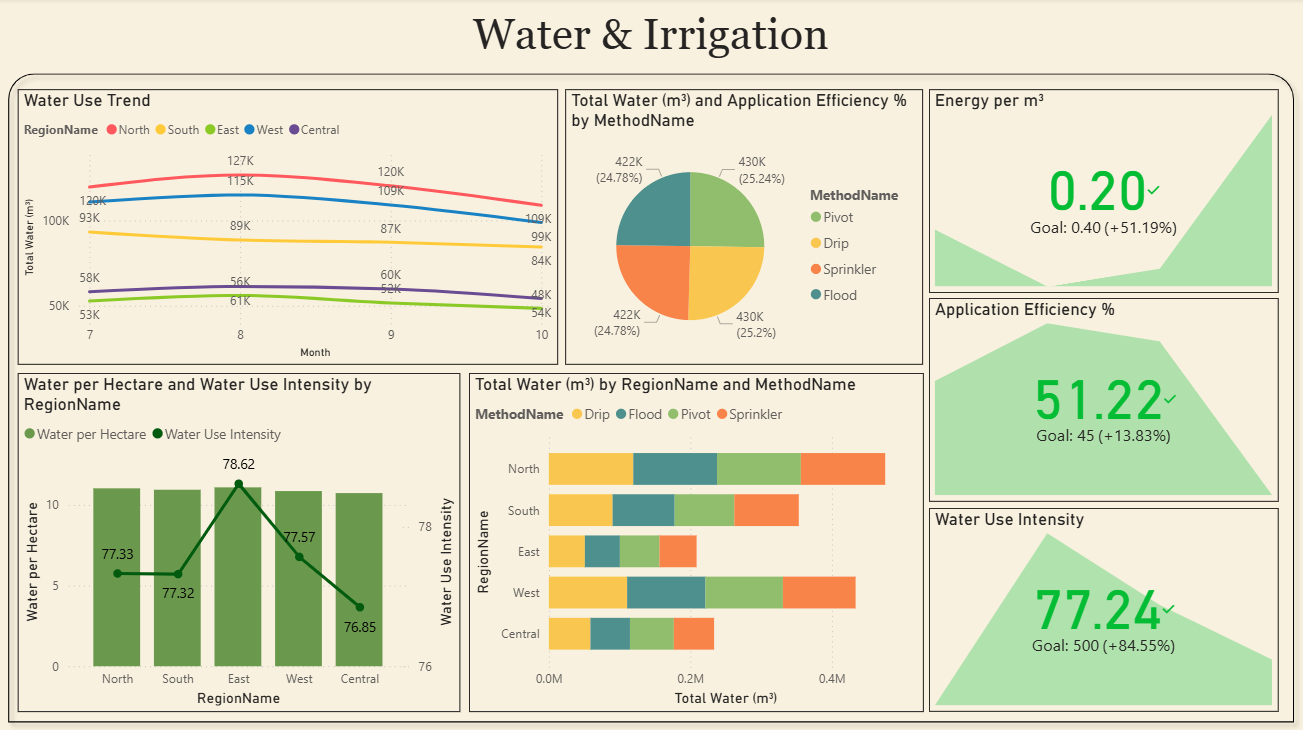

This screenshot's page, from the dashboard's own definition file:
{"tool":"powerbi","page":{"name":"Water & Irrigation","canvas":[1280,720],"ordinal":2},"visuals":[{"type":"shape","box":[0,65,1280.2,655],"z":0},{"type":"textbox","box":[453.1,6.1,374,58.8],"z":1000},{"type":"lineChart","title":"Water Use Trend","fields":{"Category":["DimDateTime.Month"],"Y":["FactIrrigation.Total Water (m³)"],"Series":["DimRegion.RegionName"]},"box":[18.4,89.6,530.3,270.4],"z":2000},{"type":"lineClusteredColumnComboChart","fields":{"Category":["DimRegion.RegionName"],"Y":["FactIrrigation.Water per Hectare"],"Y2":["FactIrrigation.Water Use Intensity"]},"box":[18.4,367.9,434.6,332.8],"z":3000},{"type":"pieChart","fields":{"Category":["DimIrrigationMethod.MethodName"],"Y":["FactIrrigation.Total Water (m³)"]},"box":[555.8,89.6,351.2,270.4],"z":4000},{"type":"barChart","fields":{"Y":["FactIrrigation.Total Water (m³)"],"Category":["DimRegion.RegionName"],"Series":["DimIrrigationMethod.MethodName"]},"box":[461,367.9,446,332.8],"z":5000},{"type":"kpi","title":"Energy per m³","fields":{"TrendLine":["DimDateTime.Month"],"Indicator":["FactIrrigation.Energy per m³"],"Goal":["FactIrrigation.Energy per m³ Goal"]},"box":[913.2,89.6,343.3,200],"z":6000},{"type":"kpi","title":"Application Efficiency %","fields":{"TrendLine":["DimDateTime.Month"],"Indicator":["FactIrrigation.Application Efficiency %"],"Goal":["FactIrrigation.Target Application Efficiency %"]},"box":[913.2,294.1,343.3,200],"z":7000},{"type":"kpi","title":"Water Use Intensity ","fields":{"TrendLine":["DimDateTime.Month"],"Indicator":["FactIrrigation.Water Use Intensity"],"Goal":["FactIrrigation.Target Water Use Intensity"]},"box":[913.2,500.5,343.3,200.2],"z":8000}]}

Visuals, with their boxes in screenshot pixels (x1, y1, x2, y2), scaled from the page's 1280x720 canvas onto the 1303x730 screenshot:
shape: (0,66,1302,729)
textbox: (461,6,842,66)
"Water Use Trend" lineChart: (19,91,559,365)
lineClusteredColumnComboChart - DimRegion.RegionName x FactIrrigation.Water per Hectare: (19,373,461,710)
pieChart - DimIrrigationMethod.MethodName x FactIrrigation.Total Water (m³): (566,91,923,365)
barChart - FactIrrigation.Total Water (m³) x DimRegion.RegionName: (469,373,923,710)
"Energy per m³" kpi: (930,91,1279,294)
"Application Efficiency %" kpi: (930,298,1279,501)
"Water Use Intensity " kpi: (930,507,1279,710)
